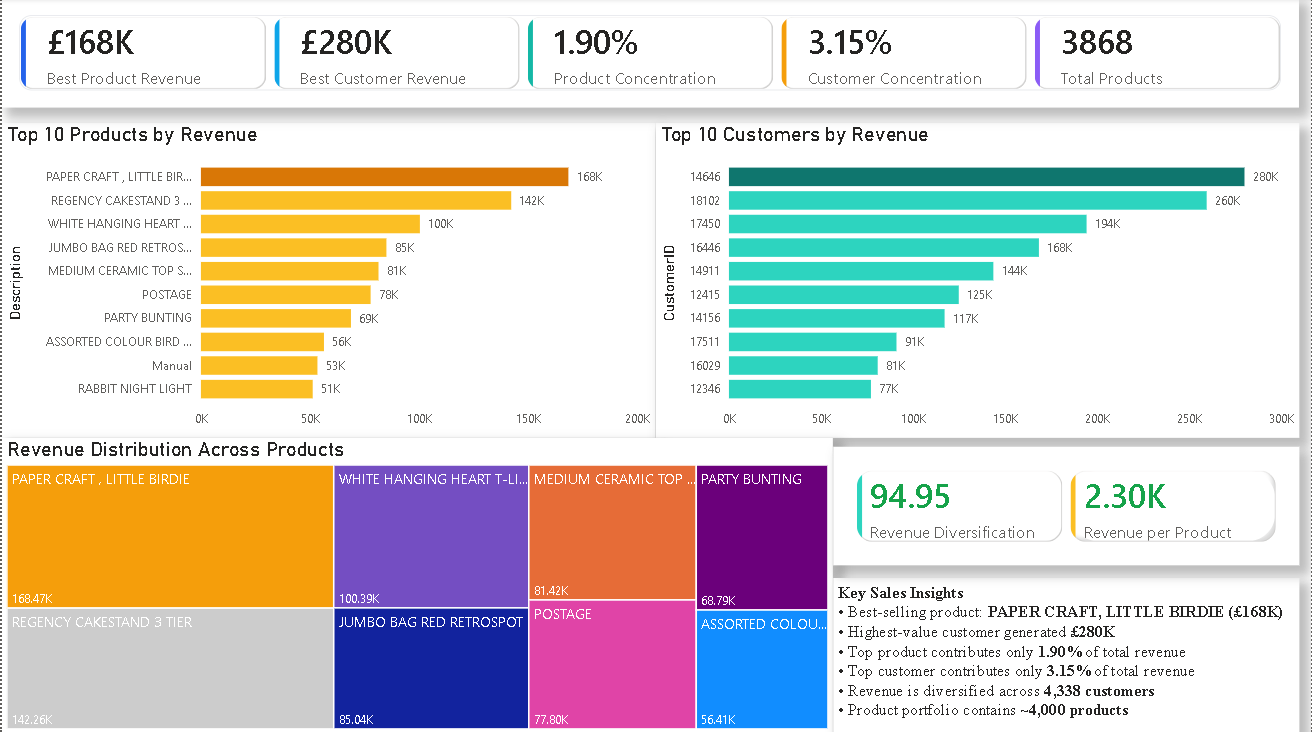

The dashboard page shown, as its layout file describes it:
{"tool":"powerbi","page":{"name":"Sales Analytics","canvas":[1280,720],"ordinal":1},"visuals":[{"type":"clusteredBarChart","title":"Top 10 Products by Revenue","fields":{"Category":["cleaned_online_retail.Description"],"Y":["Sum(cleaned_online_retail.Revenue)"]},"box":[0,122.3,639.5,308.2],"z":0},{"type":"clusteredBarChart","title":"Top 10 Customers by Revenue","fields":{"Category":["cleaned_online_retail.CustomerID"],"Y":["Sum(cleaned_online_retail.Revenue)"]},"box":[639.5,122.3,629.8,308.2],"z":1000},{"type":"treemap","title":"Revenue Distribution Across Products","fields":{"Values":["Sum(cleaned_online_retail.Revenue)"],"Details":["cleaned_online_retail.Description"]},"box":[0,430.4,813.2,289.8],"z":2000},{"type":"cardVisual","fields":{"Data":["cleaned_online_retail.Top Product Revenue","cleaned_online_retail.Top Customer Revenue","cleaned_online_retail.Top Product Revenue %","cleaned_online_retail.Top Customer Revenue %","cleaned_online_retail.Total Products"]},"box":[0,0,1269,107.2],"z":3000},{"type":"textbox","box":[813.2,567.4,456.1,152.9],"z":4000},{"type":"cardVisual","fields":{"Data":["cleaned_online_retail.Diversification Score","cleaned_online_retail.Revenue per Product"]},"box":[813.2,439,456.1,116.2],"z":5000}]}

Visuals, with their boxes in screenshot pixels (x1, y1, x2, y2), scaled from the page's 1280x720 canvas onto the 1312x732 screenshot:
"Top 10 Products by Revenue" clusteredBarChart: x1=0 y1=124 x2=655 y2=438
"Top 10 Customers by Revenue" clusteredBarChart: x1=655 y1=124 x2=1301 y2=438
"Revenue Distribution Across Products" treemap: x1=0 y1=438 x2=834 y2=731
cardVisual - cleaned_online_retail.Top Product Revenue x cleaned_online_retail.Top Customer Revenue: x1=0 y1=0 x2=1301 y2=109
textbox: x1=834 y1=577 x2=1301 y2=731
cardVisual - cleaned_online_retail.Diversification Score x cleaned_online_retail.Revenue per Product: x1=834 y1=446 x2=1301 y2=564
